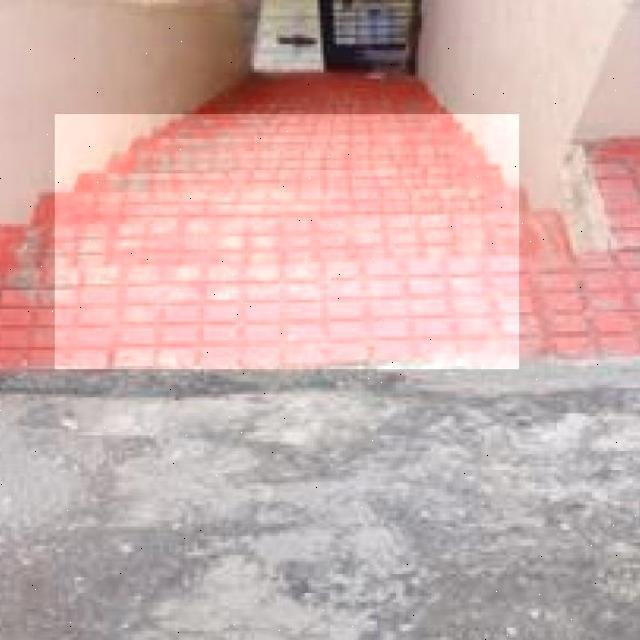stair: (55, 115, 519, 370)
